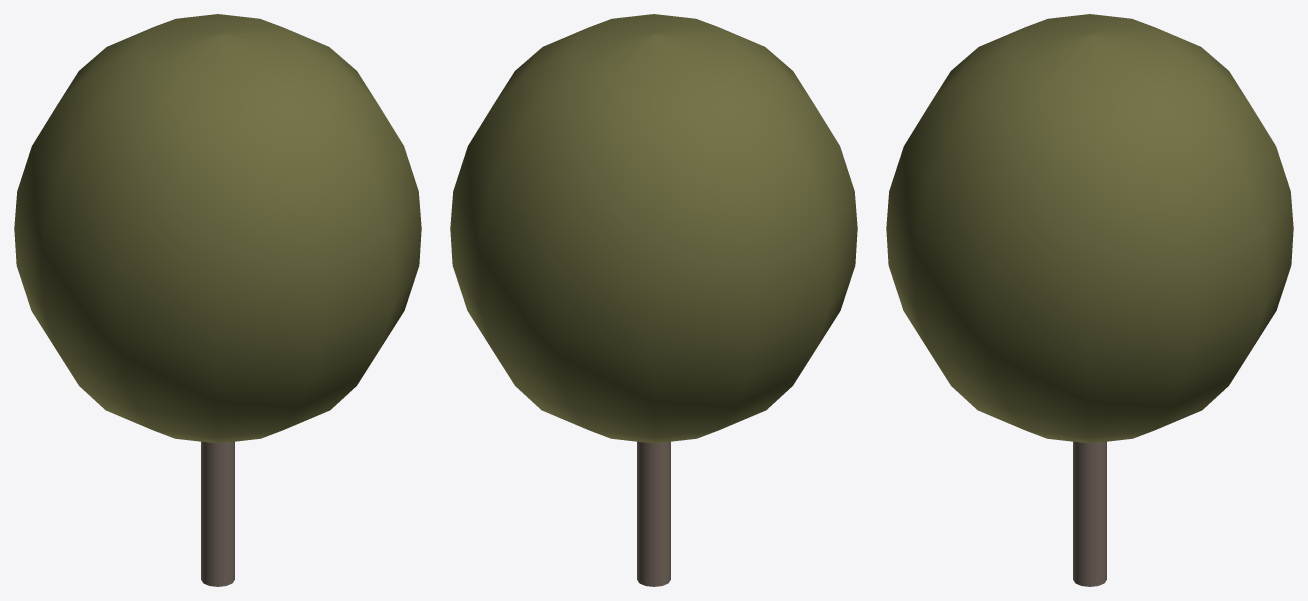
File: Strawberry_Tree_Analytical_0.obj
The picture shows the model from 3 angles, left to right: view 1: azimuth 30°, elevation 25°; view 2: azimuth 150°, elevation 25°; view 3: azimuth 270°, elevation 25°; orthographic projection.
Parts seen in each view (by area): view 1: AnalyticalCrown, AnalyticalTrunk; view 2: AnalyticalCrown, AnalyticalTrunk; view 3: AnalyticalCrown, AnalyticalTrunk.
Boxes of the visible parts, left/top/right/bottom form: AnalyticalCrown: left=14, top=14, right=421, bottom=443; AnalyticalTrunk: left=201, top=441, right=234, bottom=586; AnalyticalCrown: left=450, top=14, right=857, bottom=443; AnalyticalTrunk: left=637, top=441, right=670, bottom=586; AnalyticalCrown: left=886, top=14, right=1293, bottom=443; AnalyticalTrunk: left=1073, top=441, right=1106, bottom=586.
Size of the model in its own units: 5.08 by 7.5 by 5.08.
